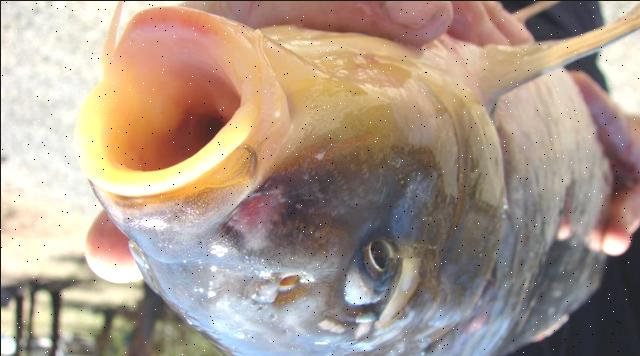Mulut: (62, 0, 316, 227)
Sirip Dada: (453, 0, 638, 117)
